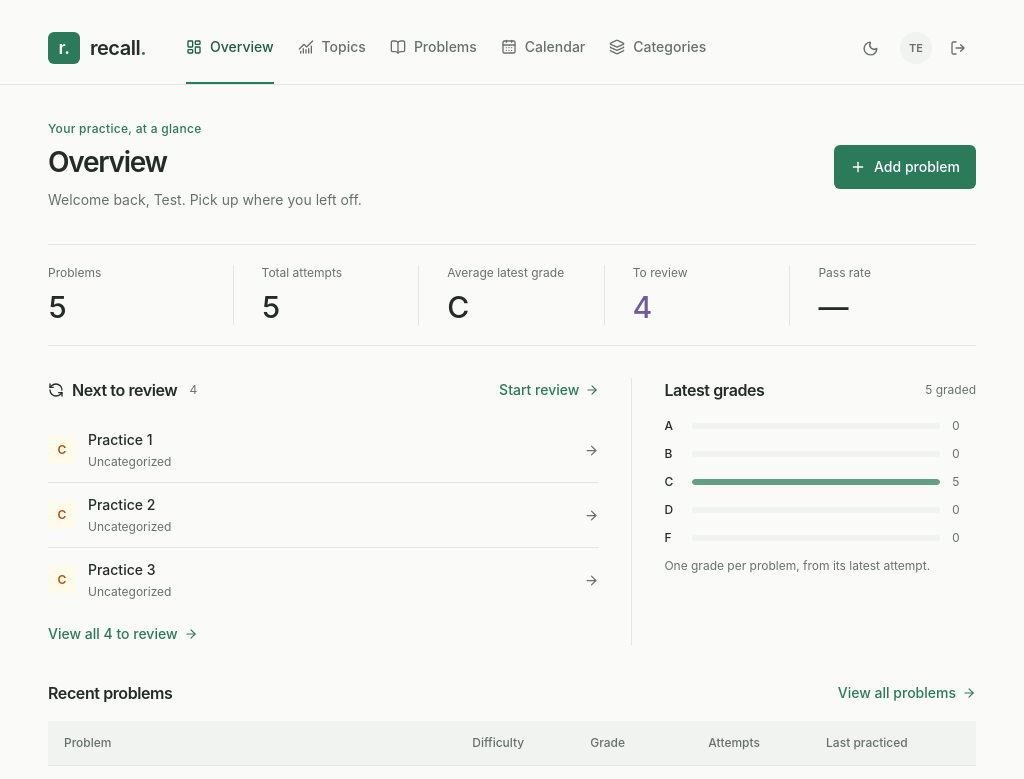
Test: merged app routing and authentication › opens the full review queue through main's router and resets via navigation
Click the button "View all 4 to review": (123, 634) 48,624 -> 198,644
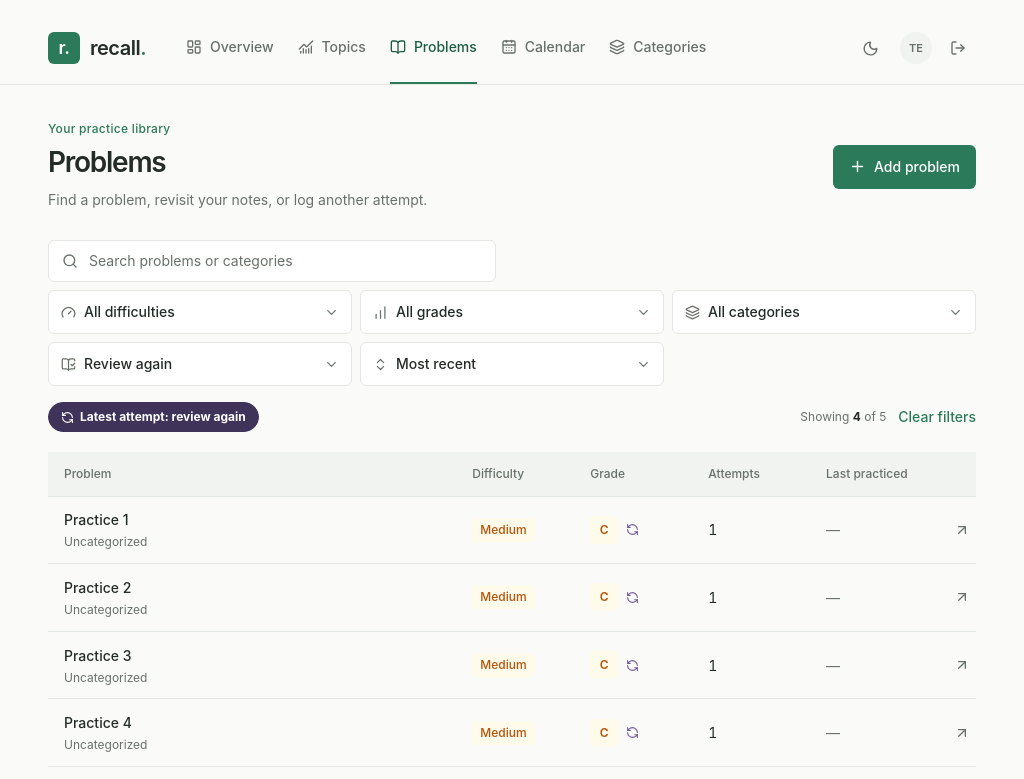
expect the number of rows is 5: met, box 48,452 -> 976,496; 48,497 -> 976,564; 48,564 -> 976,631; 48,631 -> 976,699; 48,699 -> 976,766
Click the button "Problems": (433, 48) 390,12 -> 477,84
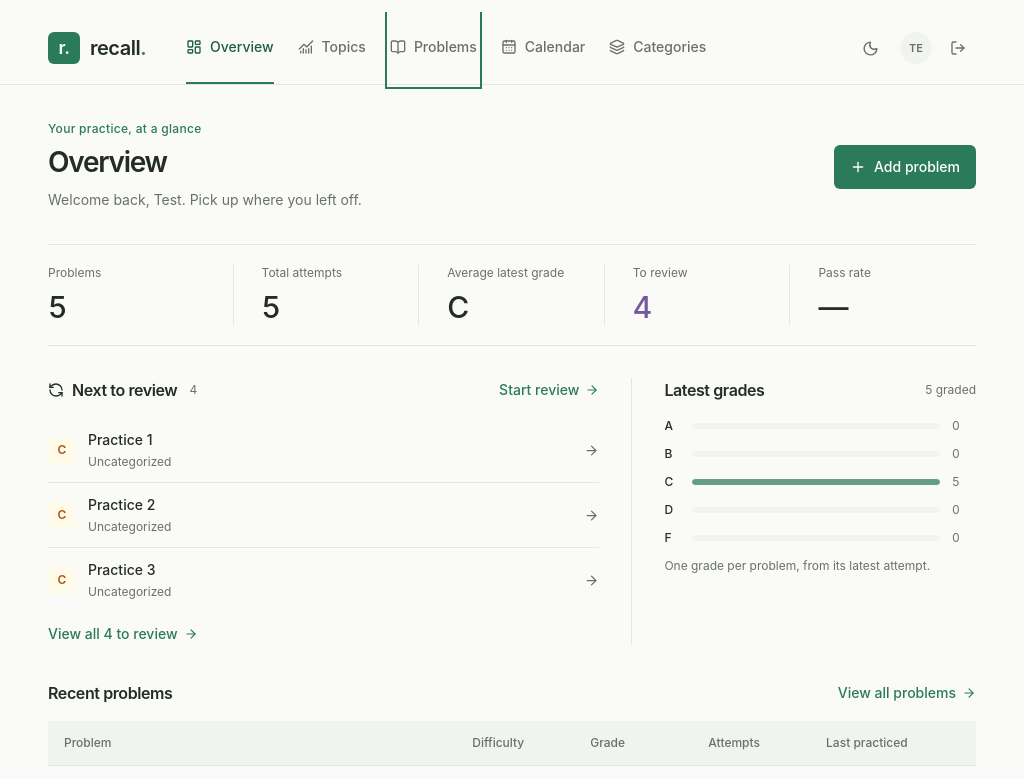
expect the heading "Overview" is shown: met, box 48,145 -> 167,179
